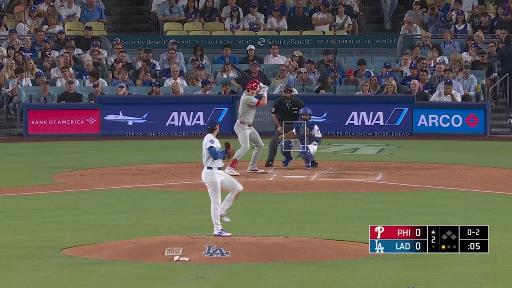pitcher: (202, 119, 245, 238)
